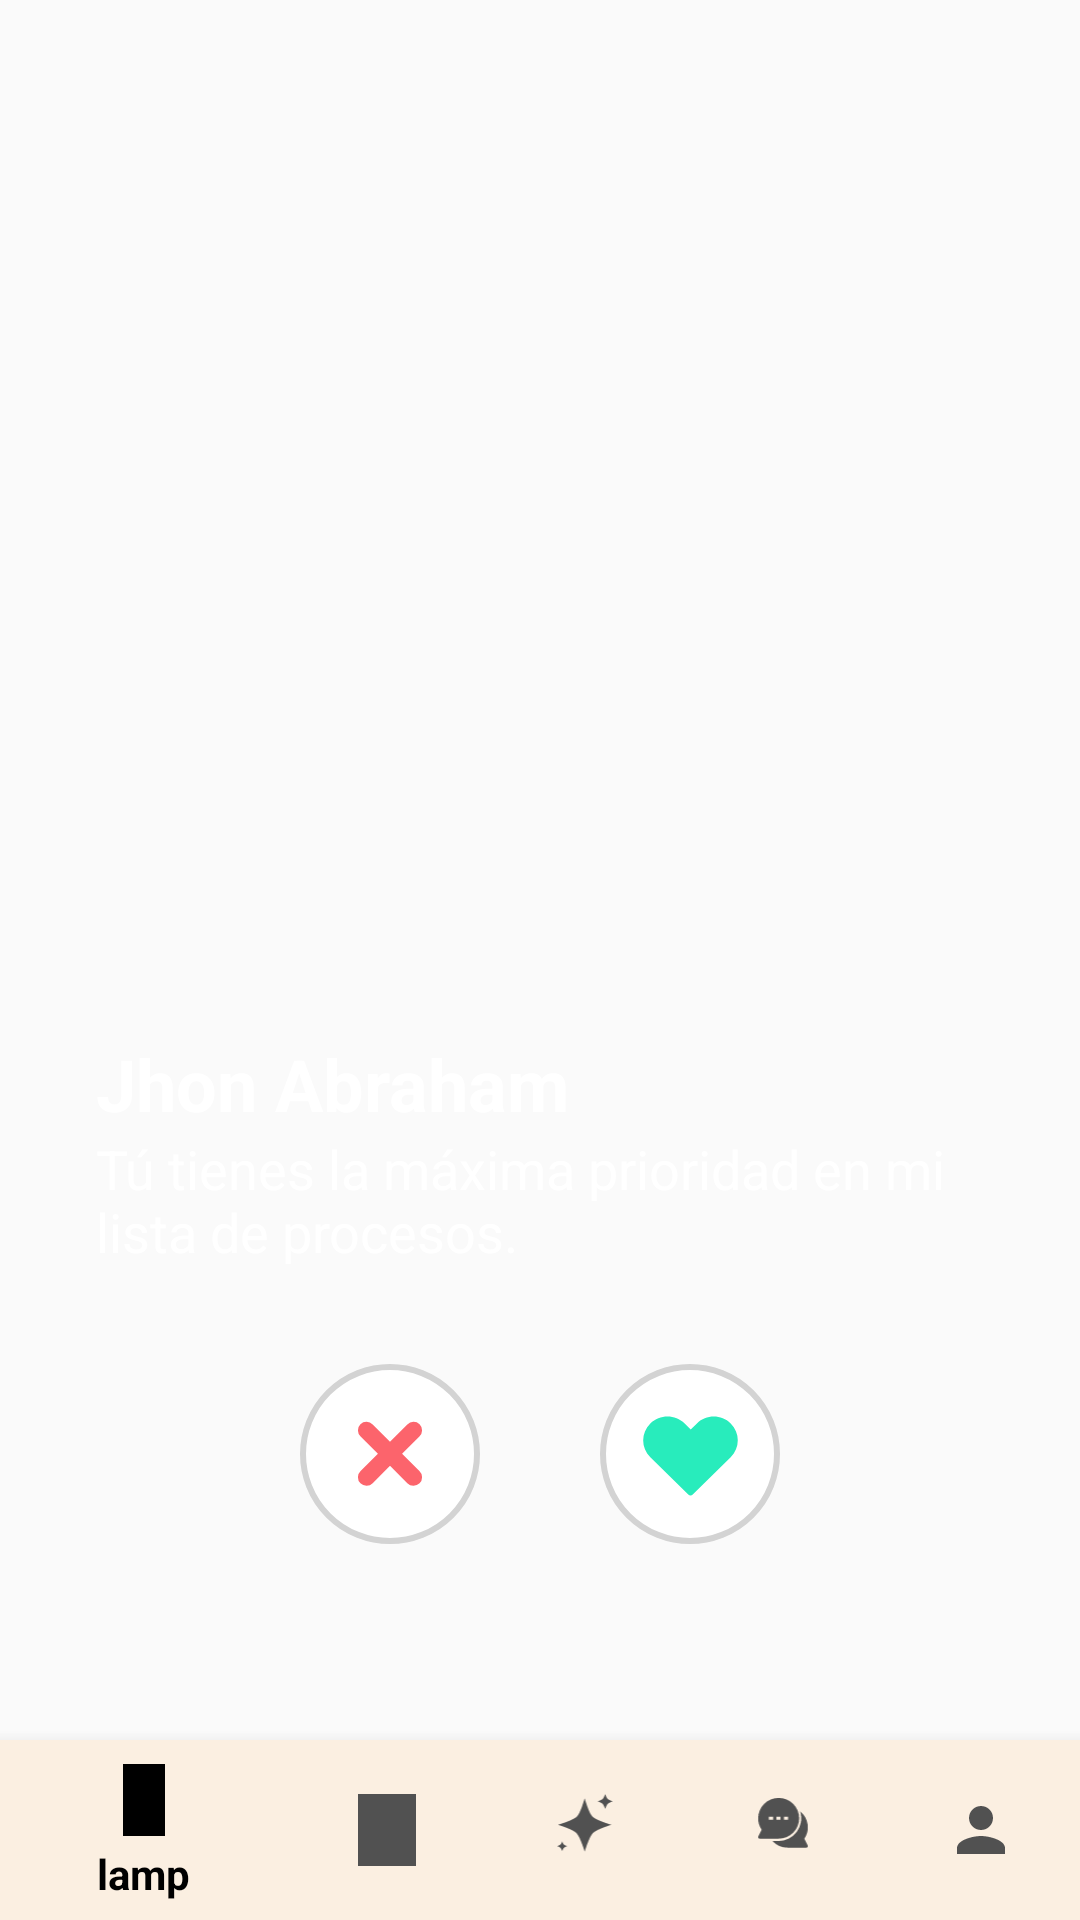

Point at icon controls on the screen. Image size 1080px x 1920px, points as (x,y).
dislike: (390,1454)
like: (690,1454)
